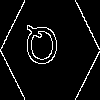Q: (25, 25, 58, 73)
